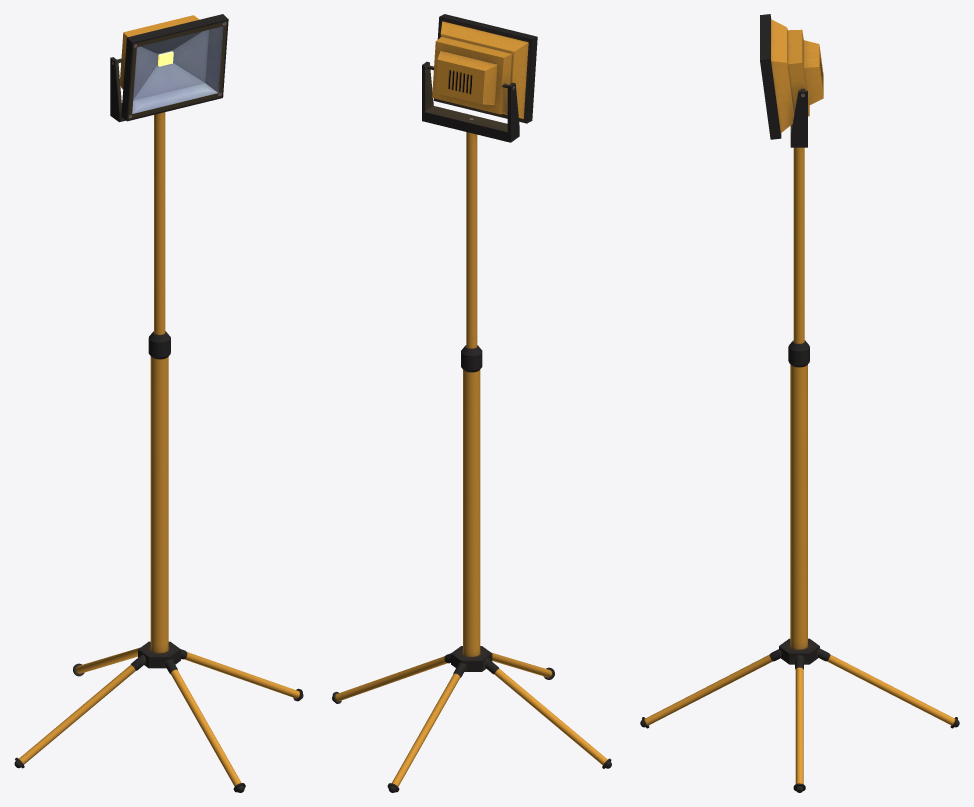
Rendered from Treppiedi_3.glb.
The picture shows the model from 3 angles, left to right: view 1: azimuth 30°, elevation 25°; view 2: azimuth 150°, elevation 25°; view 3: azimuth 270°, elevation 25°; orthographic projection. The views are drawn at different scales.
Visible parts, largest first — view 1: Trippiedi; view 2: Trippiedi; view 3: Trippiedi.
Boxes of the visible parts, <box> form: Trippiedi: <box>14,14,303,792</box>; Trippiedi: <box>332,14,611,792</box>; Trippiedi: <box>640,14,959,792</box>.
Bounding box in the file's own units: 0.6092 × 1.45 × 0.6092.
1 material, 1 textured.
